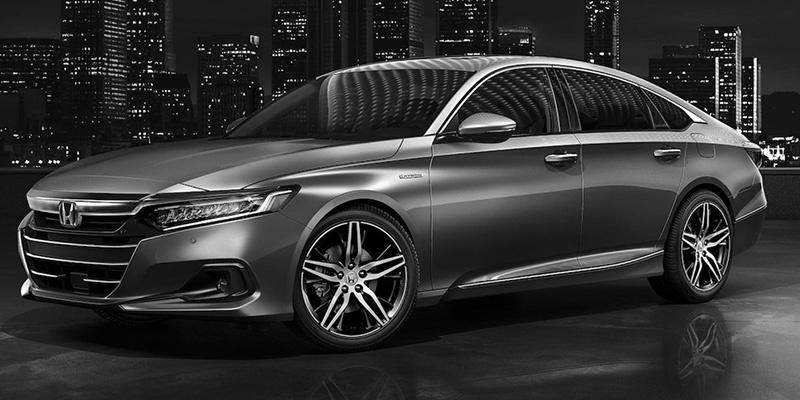Car hood: (22, 135, 409, 218)
Fender - -F-L-: (241, 132, 436, 294)
Fender - -R-L-: (662, 128, 758, 261)
Front bumper: (17, 218, 317, 326)
Headlight - -L-: (131, 177, 304, 238)
Passenger-s door - -F-L-: (437, 62, 583, 293)
Passenger-s door - -R-L-: (580, 64, 690, 279)
Rear bumper: (717, 186, 774, 258)
Rear light - -L-: (739, 136, 772, 179)
Side bumper - -L-: (409, 246, 675, 313)
Side mirror - -L-: (432, 108, 521, 151)
Side mirror - -R-: (220, 110, 255, 143)
